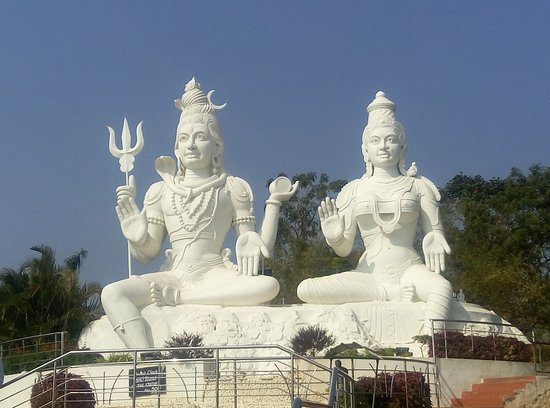person-like: (96, 75, 302, 357), (293, 86, 458, 357)
